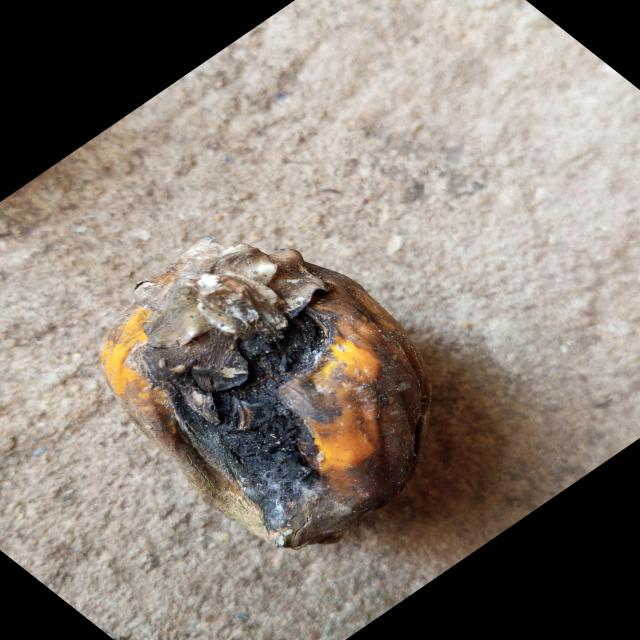damaged: (102, 237, 430, 548)
